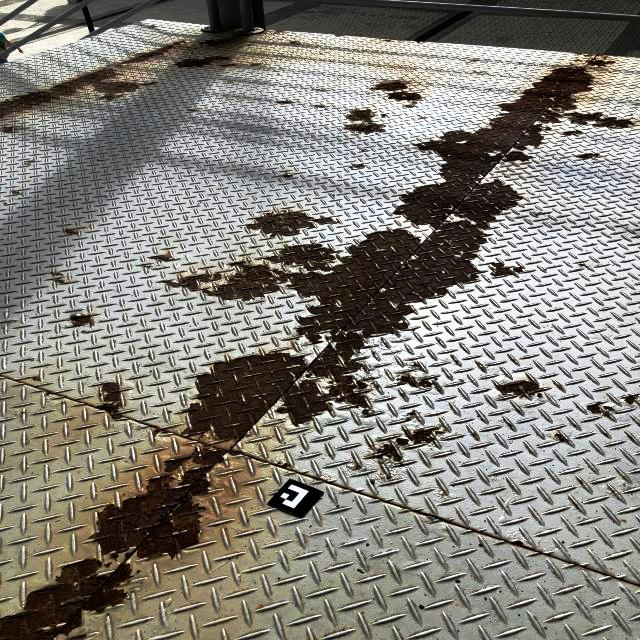Corrosion: (93, 66, 592, 579), (0, 40, 187, 119), (0, 559, 130, 640), (246, 210, 339, 237), (370, 79, 421, 108), (565, 111, 635, 128), (93, 381, 122, 419), (496, 379, 547, 400), (344, 108, 385, 133), (371, 441, 405, 466), (404, 427, 445, 444), (174, 55, 231, 67), (586, 402, 616, 418), (489, 262, 517, 277), (417, 378, 442, 391), (70, 314, 94, 327), (152, 425, 170, 442), (396, 374, 418, 387), (585, 60, 616, 68), (148, 252, 174, 261), (393, 437, 413, 448), (553, 432, 571, 444), (60, 633, 88, 640), (624, 394, 640, 406), (381, 466, 394, 480), (562, 129, 583, 137), (507, 541, 529, 548), (578, 153, 600, 159), (405, 410, 416, 421), (0, 127, 17, 134), (347, 163, 366, 169), (135, 263, 151, 269), (359, 408, 371, 416), (351, 463, 364, 470), (204, 39, 222, 44), (48, 271, 65, 276), (512, 266, 524, 273), (410, 361, 422, 368), (64, 228, 78, 234), (53, 278, 65, 284), (279, 462, 290, 468), (31, 375, 42, 381), (275, 101, 295, 104), (10, 190, 22, 195), (593, 55, 604, 60), (219, 63, 237, 66), (399, 392, 407, 398), (556, 384, 564, 390), (46, 391, 55, 396), (313, 104, 327, 107), (506, 422, 513, 427), (250, 63, 261, 66), (290, 41, 301, 44), (574, 59, 585, 62), (150, 25, 159, 28), (277, 461, 282, 466), (187, 109, 199, 111), (579, 480, 583, 485), (474, 432, 478, 437), (25, 160, 34, 162), (575, 53, 583, 55), (24, 163, 32, 165), (381, 114, 386, 117), (246, 44, 253, 46), (276, 30, 283, 32), (473, 71, 480, 73), (471, 60, 478, 62), (416, 41, 421, 43), (602, 58, 607, 60), (335, 35, 343, 36)
